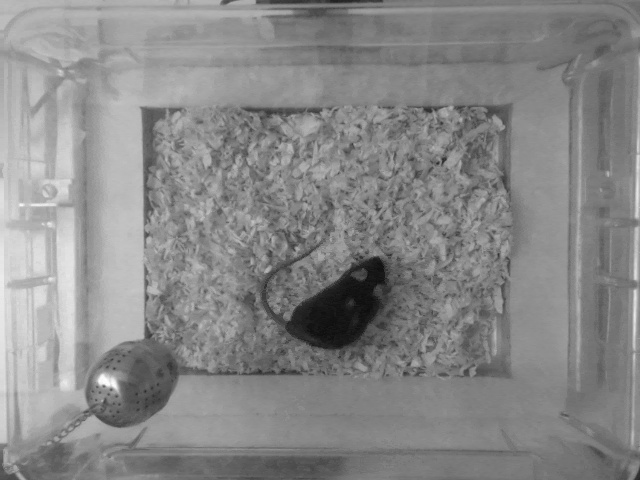mice: (257, 235, 407, 353)
